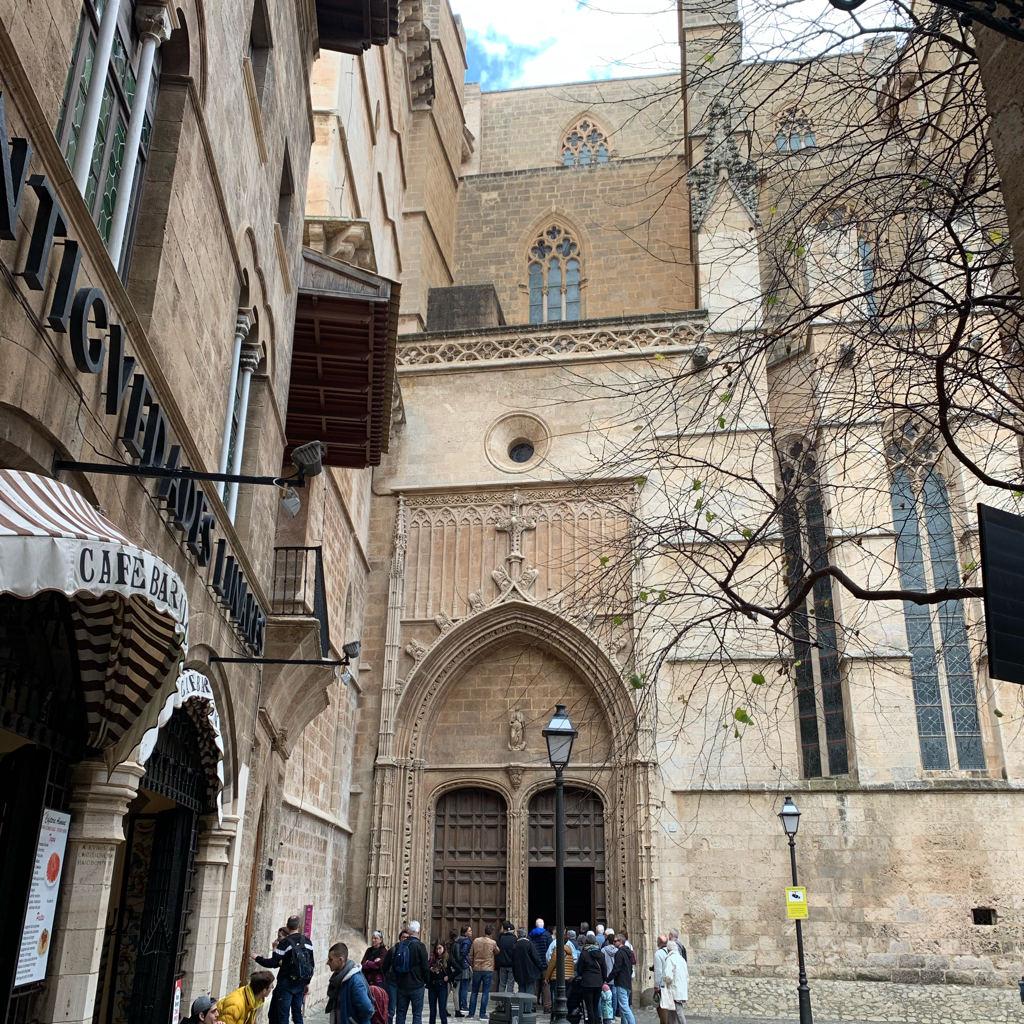arco-apuntado: (396, 600, 631, 749), (517, 205, 594, 263), (559, 109, 609, 155)
arco-conopial: (468, 576, 559, 616)
ojo-de-buey: (481, 410, 552, 471)
